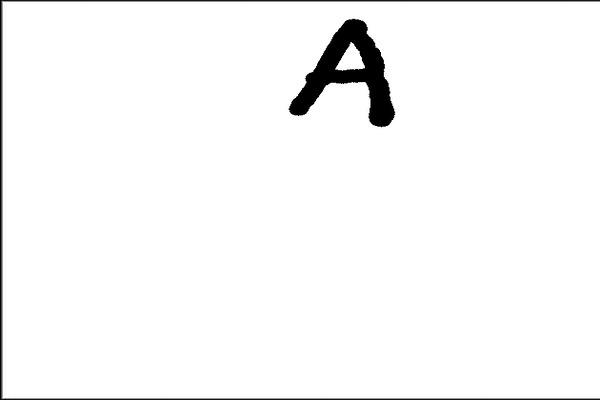A: (282, 10, 399, 131)
